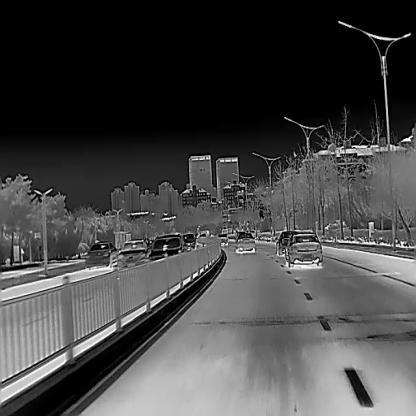car: (284, 231, 323, 267), (116, 237, 150, 270), (84, 240, 119, 269), (148, 234, 184, 262), (275, 230, 300, 255), (234, 232, 256, 253), (182, 233, 197, 249), (217, 234, 228, 246)
